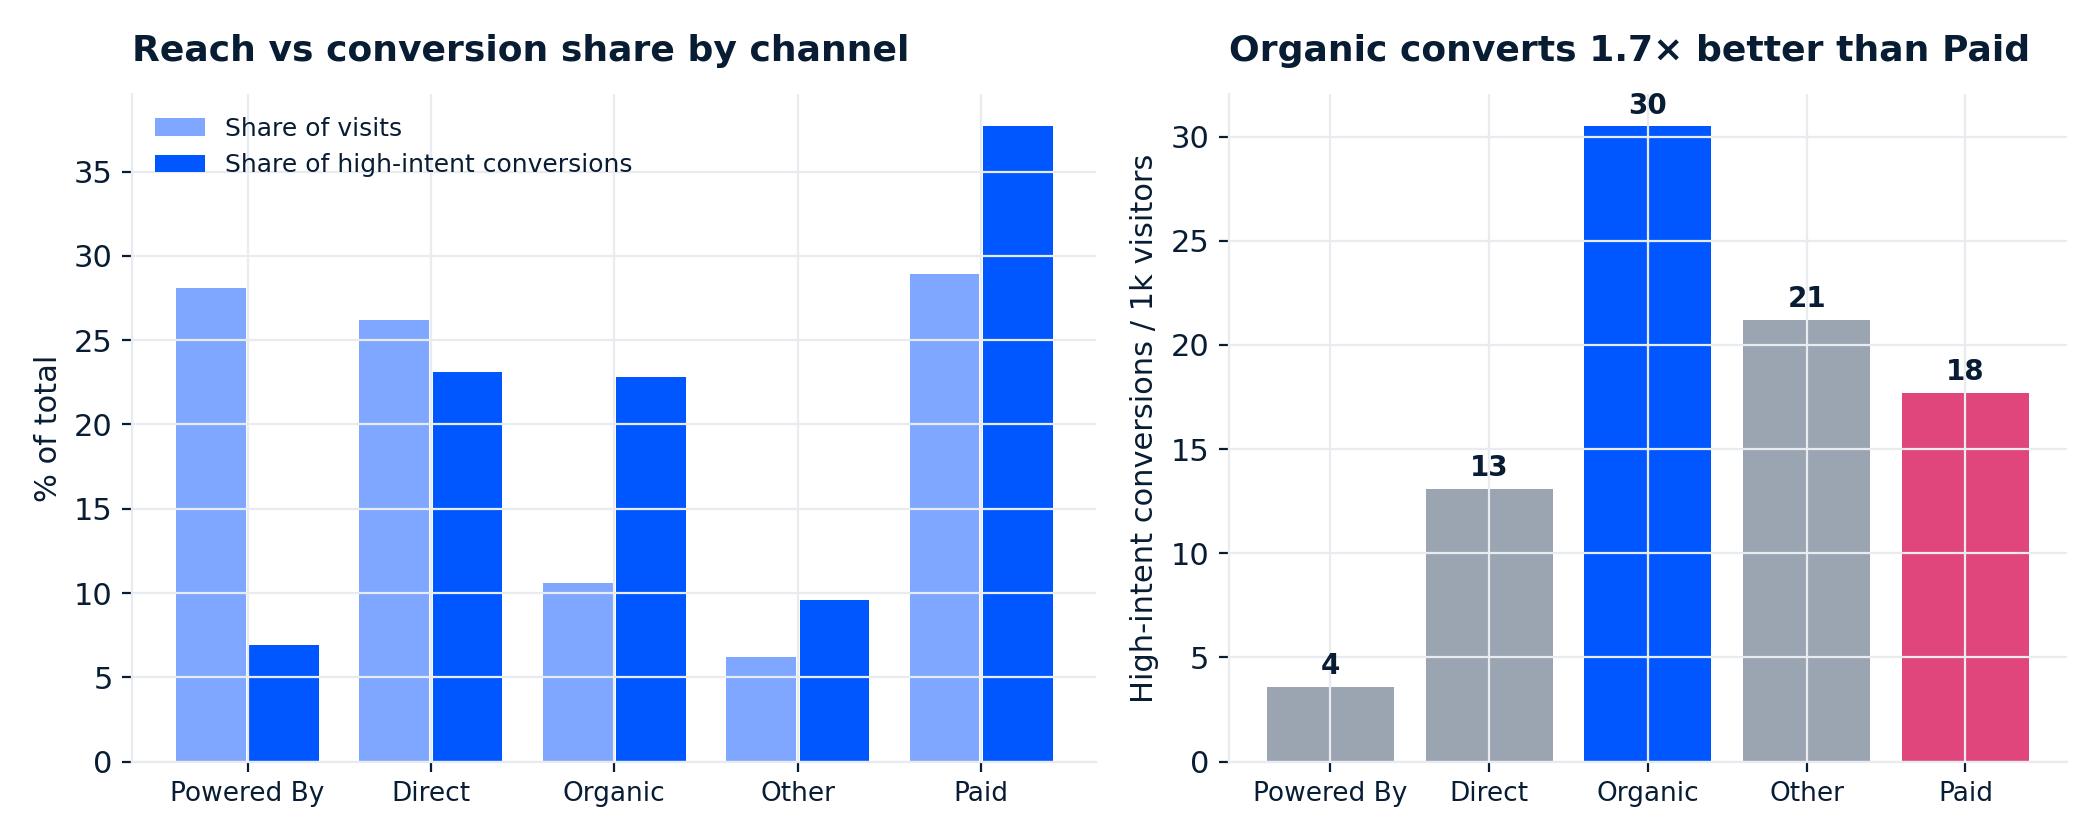

The dashboard page shown, as its layout file describes it:
{"tool":"tableau","page":{"name":"Dashboard 1","canvas":[650,860],"ordinal":0},"visuals":[{"type":"worksheet","title":"Sheet 15","mark":"Bar","rows":["UNIQUE_COOKIES"],"cols":["WEEK_START"],"box":[8,8,474,422]},{"type":"legend","title":"Sheet 15","param":"[federated.00xvluc0o09pjo18ob8lm1i6f2af].[Attribution Channel Group (group)]","box":[482,8,160,104]},{"type":"legend","title":"Sheet 18","param":"[federated.0vx796z1qqh5kz1ehccqn00rkpwv].[:Measure Names]","box":[482,112,160,44]},{"type":"worksheet","title":"Sheet 18","mark":"Bar","rows":["TOTAL_MQLS"],"cols":["WEEK_START"],"box":[8,430,474,422]}]}

Visuals, with their boxes on the page's 650x860 design canvas (x1, y1, x2, y2). These are canvas units, not pixel positions in the 2100x840 screenshot, which may show the page scaled, cropped or inside an application window:
"Sheet 15" worksheet (Bar marks): [left=8, top=8, right=482, bottom=430]
"Sheet 15" legend: [left=482, top=8, right=642, bottom=112]
"Sheet 18" legend: [left=482, top=112, right=642, bottom=156]
"Sheet 18" worksheet (Bar marks): [left=8, top=430, right=482, bottom=852]
